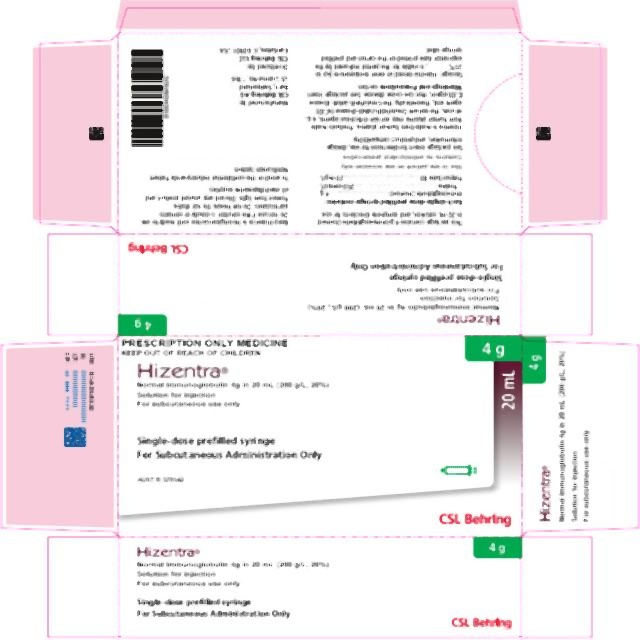Artwork: (0, 0, 640, 640)
Back_Panel: (118, 33, 524, 234)
Bottom_Part: (1, 338, 118, 536)
Extra_Areas: (33, 34, 118, 233), (524, 31, 608, 231), (116, 5, 521, 33), (521, 232, 594, 337), (46, 234, 119, 338), (46, 536, 120, 638), (521, 537, 593, 638)
Front_Panel: (118, 335, 523, 537)
Side_Panel: (120, 234, 520, 336), (119, 537, 521, 638)
Top_Panel: (522, 336, 640, 535)
